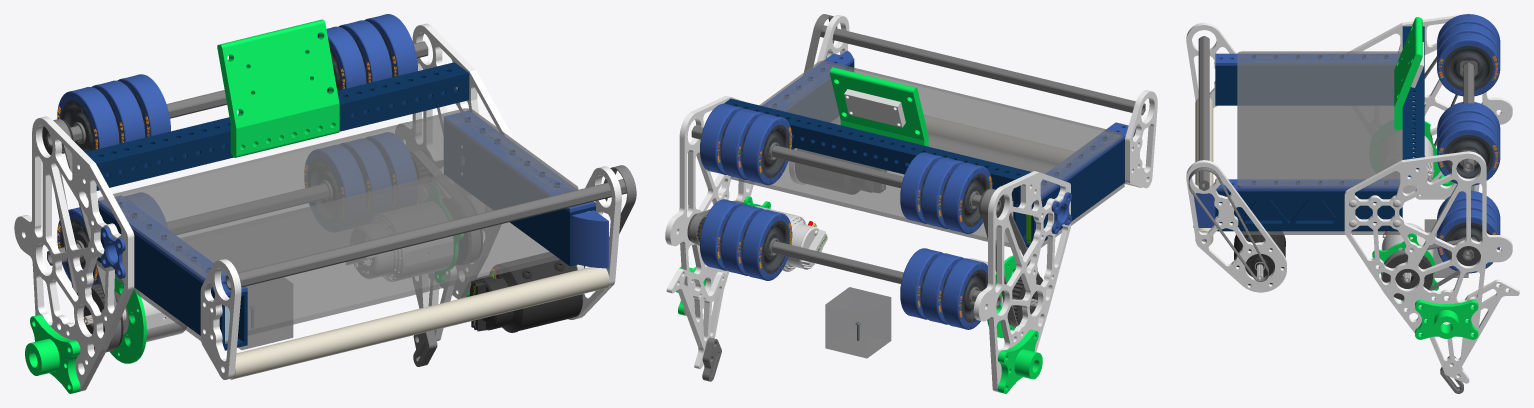
3 views of the same model, side by side, from view 1: azimuth 30°, elevation 25°; view 2: azimuth 150°, elevation 25°; view 3: azimuth 270°, elevation 25° (orthographic). The views are drawn at different scales.
Parts seen in each view (by area): view 1: Part 22, Part 19, Wheel 2 7/8" OD 0.8" Width (BaneBots T81P-29) (×11), Part 8, Part 39, Tube 1"x1"x14.5", Tube 2"x1"x8.5" (×2), ROUND Spacer 14.5 in, 1/2" ThunderHex (14.75 in), Part 4, Falcon 500 Brushless Motor (V3), 1/2" ThunderHex (14.5 in) (×2) (+17 smaller); view 2: Wheel 2 7/8" OD 0.8" Width (BaneBots T81P-29) (×12), Part 22, Part 8, Part 19, Tube 1"x1"x14.5", Part 4, Tube 2"x1"x8.5" (×2), 1/2" ThunderHex (14.75 in), 78-2024-Cartridge Reference Cube, 1/2" ThunderHex (14.5 in) (×2), Part 39, ROUND Spacer 14.5 in (+15 smaller); view 3: Part 22, Tube 2"x1"x8.5" (×2), Part 19, Wheel 2 7/8" OD 0.8" Width (BaneBots T81P-29) (×9), Part 4, Feeder Drive Side Plate V2, Part 8, Part 21, Sprocket Spacer V2, Part 20, Tube 1"x1"x14.5", Hard Stop V3 (+14 smaller).
Boxes of the visible parts, x1,y1,x2,y2 form: Part 22: (98,108,578,280); Part 19: (96,174,559,340); Wheel 2 7/8" OD 0.8" Width (BaneBots T81P-29) (×11): (57,14,417,285); Part 8: (14,116,134,391); Part 39: (217,19,339,157); Tube 1"x1"x14.5": (85,62,469,190); Tube 2"x1"x8.5" (×2): (97,121,595,350); ROUND Spacer 14.5 in: (230,267,609,379); 1/2" ThunderHex (14.75 in): (225,179,626,290); Part 4: (395,23,514,299); Falcon 500 Brushless Motor (V3): (469,252,582,332); 1/2" ThunderHex (14.5 in) (×2): (47,41,428,265); Wheel 2 7/8" OD 0.8" Width (BaneBots T81P-29) (×12): (700,103,992,329); Part 22: (759,60,1122,196); Part 8: (973,171,1070,392); Part 19: (730,117,1124,249); Tube 1"x1"x14.5": (724,98,1031,202); Part 4: (665,96,753,315); Tube 2"x1"x8.5" (×2): (786,61,1135,247); 1/2" ThunderHex (14.75 in): (820,25,1145,115); 78-2024-Cartridge Reference Cube: (825,287,891,358); 1/2" ThunderHex (14.5 in) (×2): (691,125,1000,307); Part 39: (829,67,928,146); ROUND Spacer 14.5 in: (924,115,1144,187); Part 22: (1237,51,1402,188); Tube 2"x1"x8.5" (×2): (1215,65,1402,231); Part 19: (1238,106,1401,234); Wheel 2 7/8" OD 0.8" Width (BaneBots T81P-29) (×9): (1437,14,1500,273); Part 4: (1344,151,1512,336); Feeder Drive Side Plate V2: (1186,160,1286,292); Part 8: (1347,14,1512,199); Part 21: (1215,53,1400,65); Sprocket Spacer V2: (1415,299,1478,339); Part 20: (1215,179,1400,191); Tube 1"x1"x14.5": (1402,26,1424,176); Hard Stop V3: (1429,279,1519,383).
Bounding box in the file's own units: 0.4351 × 0.373 × 0.3841.
